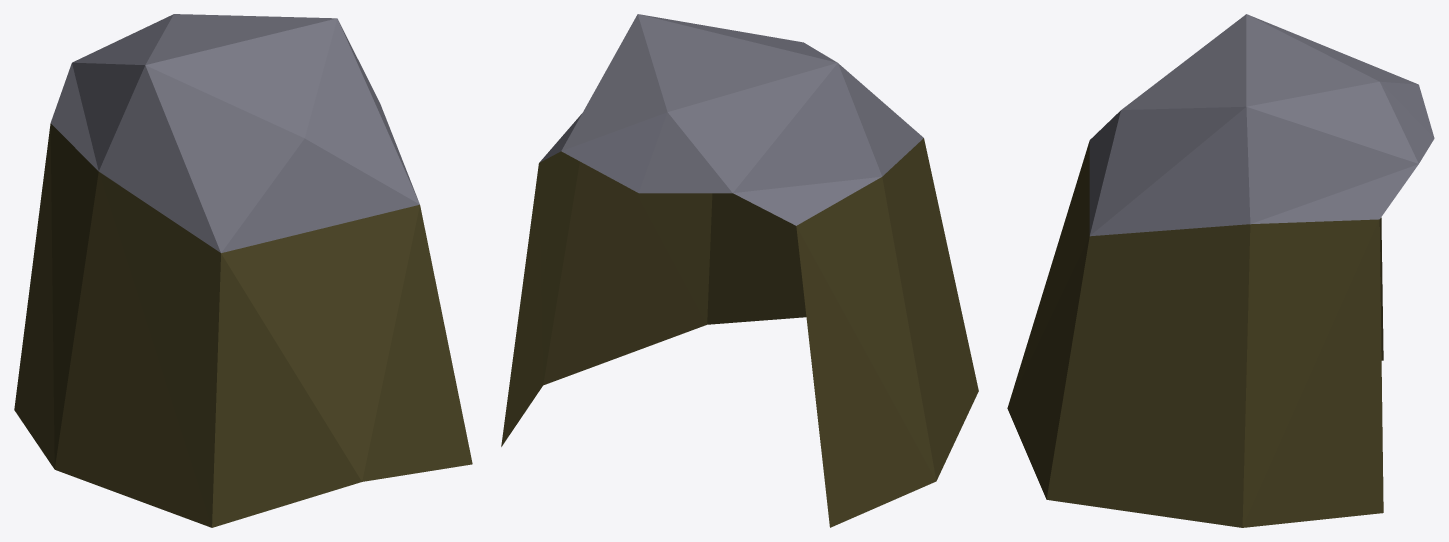
The model's file is npc_chat_leatherworker_1.obj.
3 renders of one model, left to right at view 1: azimuth 30°, elevation 25°; view 2: azimuth 150°, elevation 25°; view 3: azimuth 270°, elevation 25°, orthographic. The views are drawn at different scales.
Bounding box in the file's own units: 0.8594 × 0.8281 × 0.8516.
